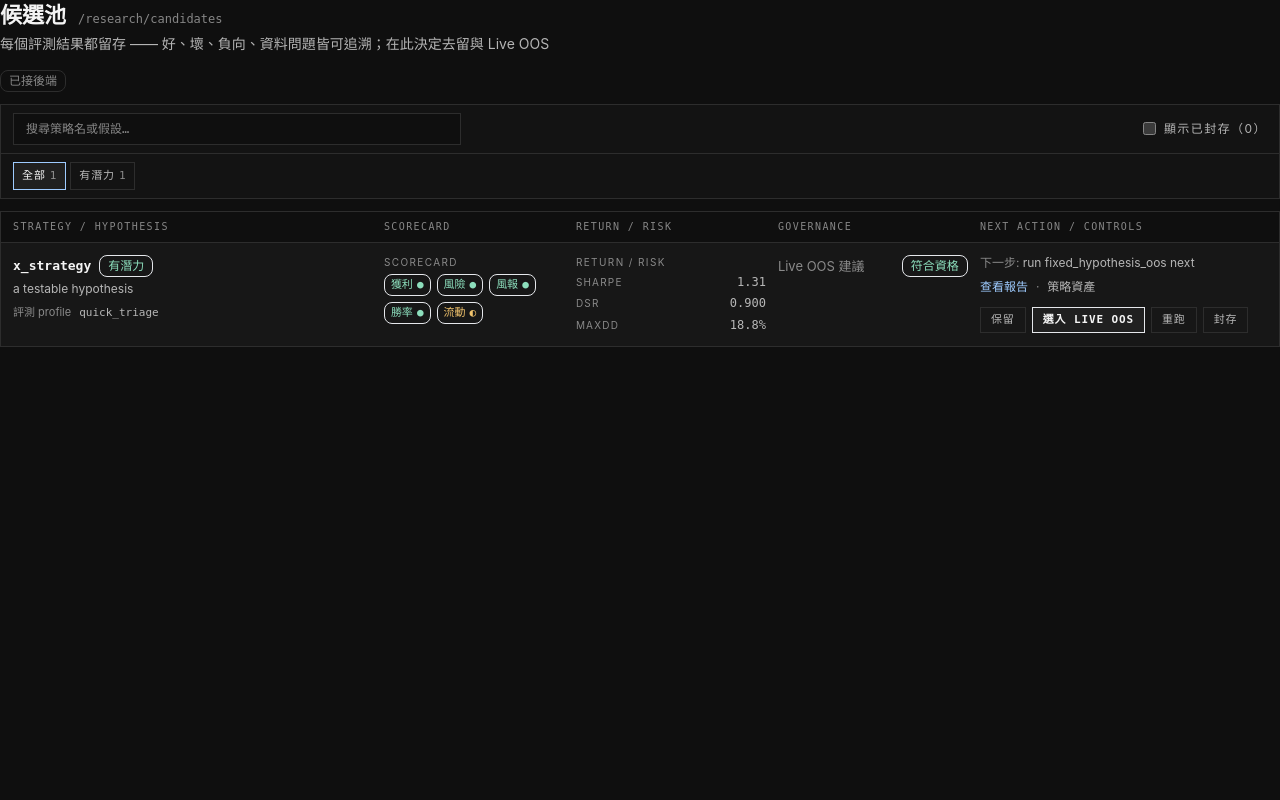
Test case: CandidatePoolPage — api mode (real mutations) › Archive → reason dialog → POST /decision {action:archive,reason}; refetch folds to archived
The image size is (1280, 800).
Expected: the heading "x_strategy" is shown, 13,257 -> 91,276
Click the button "封存". click: (1226,320)
box: 1203,307 -> 1248,333
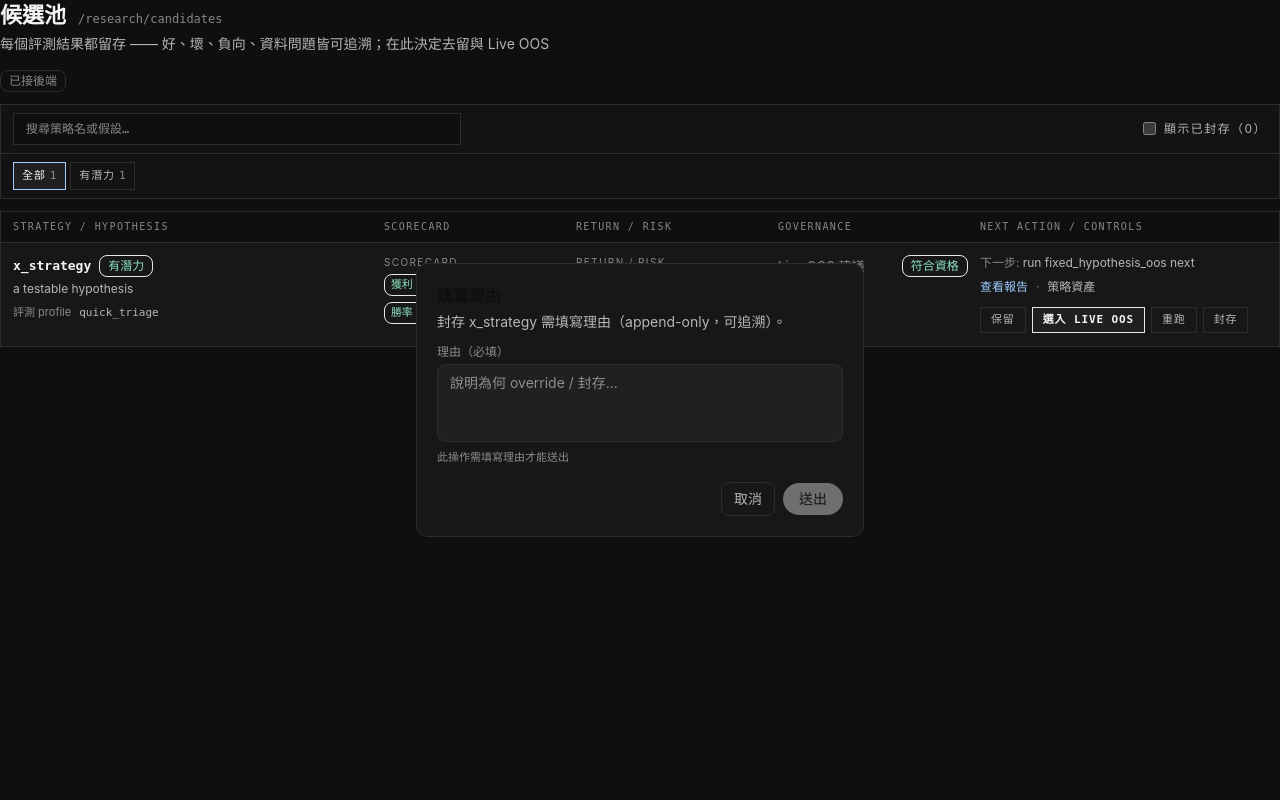
Result: the button "送出" is disabled at 783,483 -> 843,515
Type "landscape PBO too high" into the text box. click: (640,403)
box: 437,364 -> 843,442
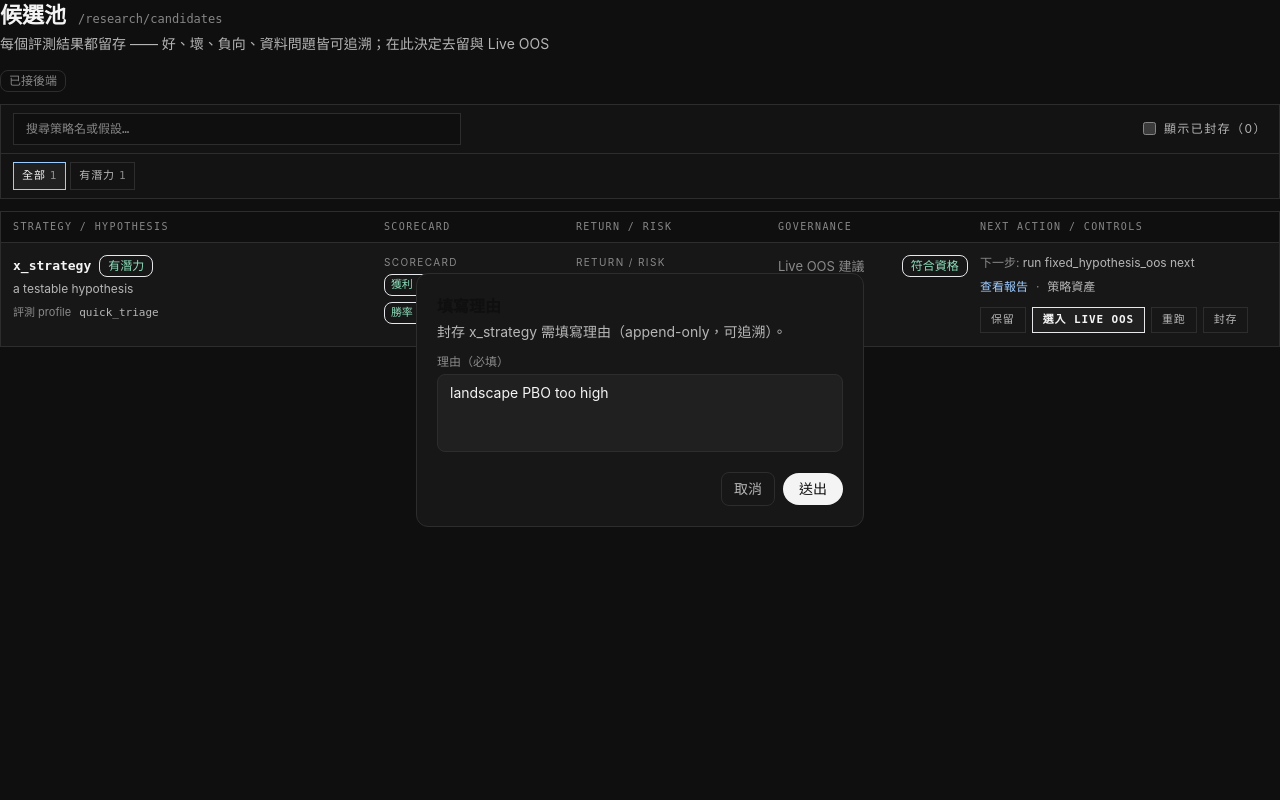
Click the button "送出". click: (813,489)
box: 783,473 -> 843,505
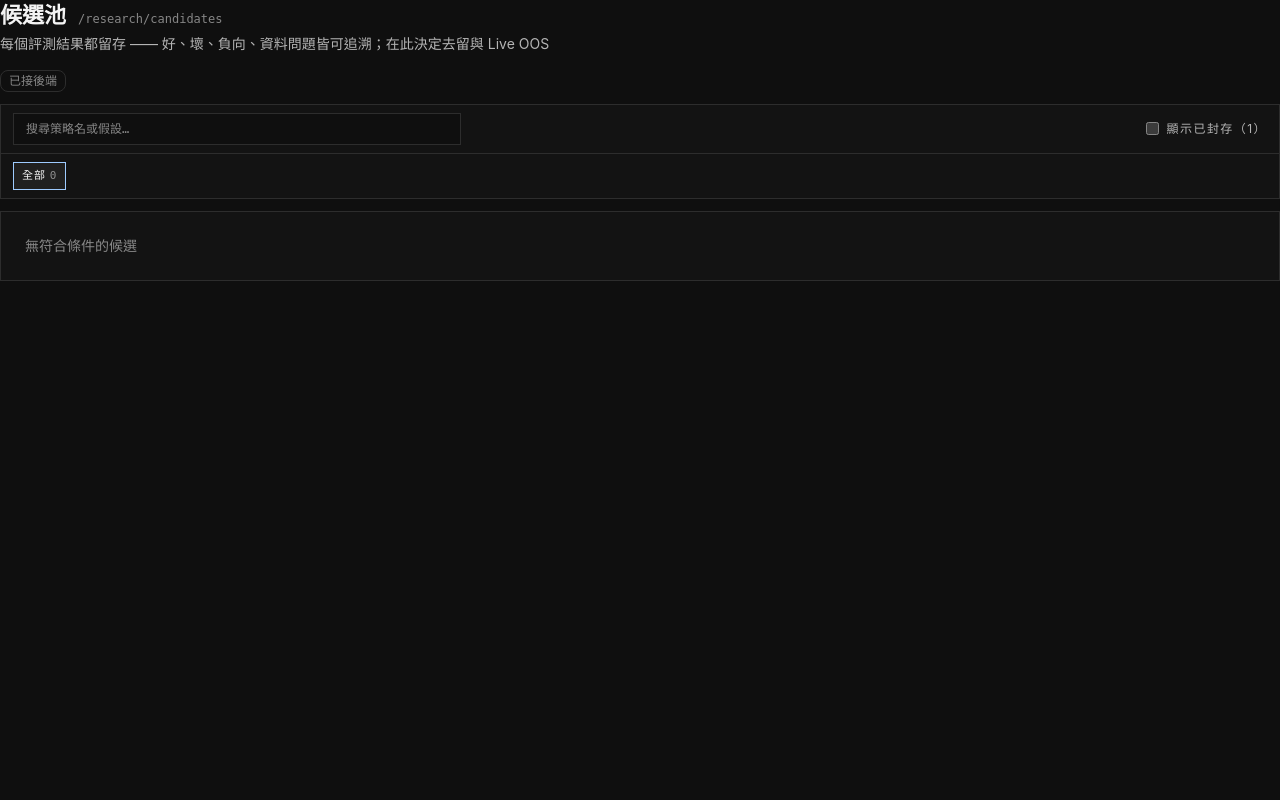
Result: the heading "x_strategy" is gone
